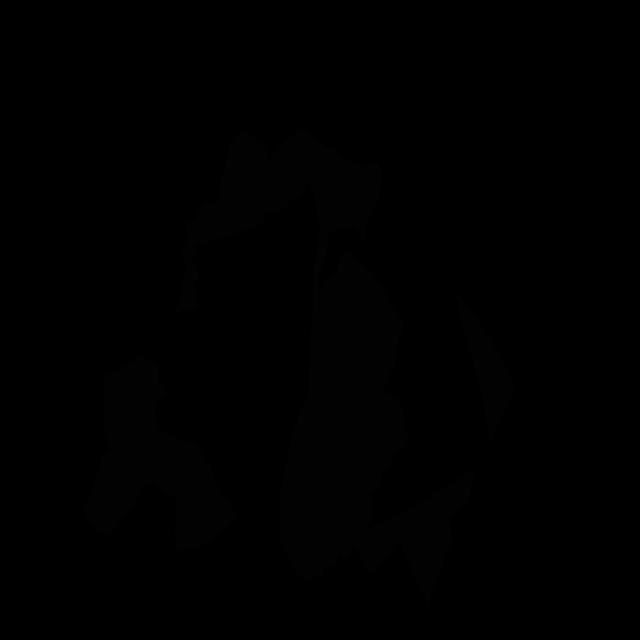cardboard: (175, 127, 410, 579), (84, 356, 238, 551), (354, 467, 476, 605), (454, 289, 515, 445)
